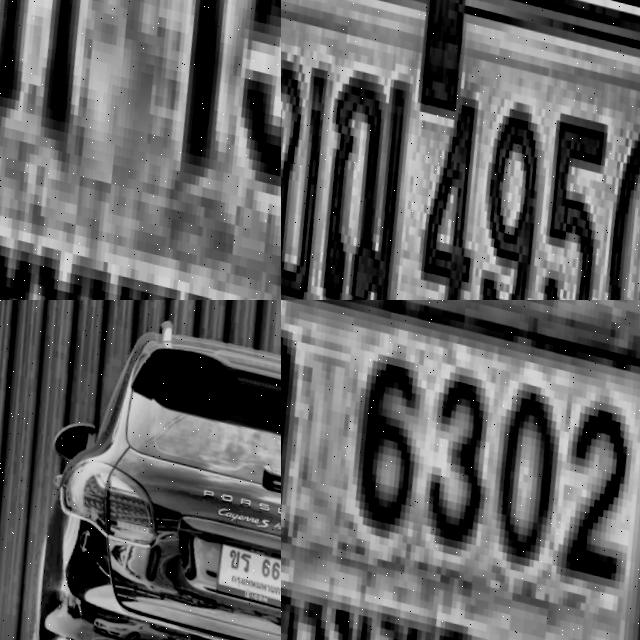license-plate: (281, 300, 640, 640), (281, 0, 640, 300), (0, 0, 281, 300), (205, 531, 281, 607)
